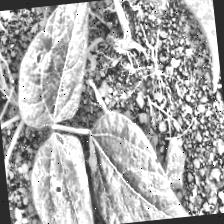ALS: (84, 102, 196, 224), (13, 1, 106, 126), (25, 127, 100, 224)
